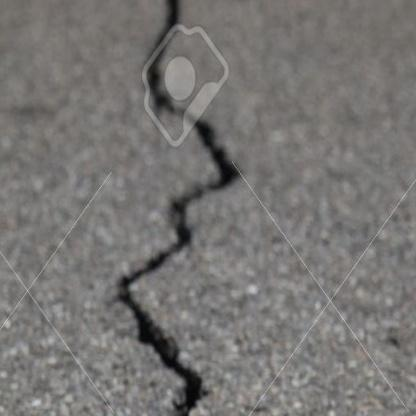Cracks: (115, 0, 245, 416)
